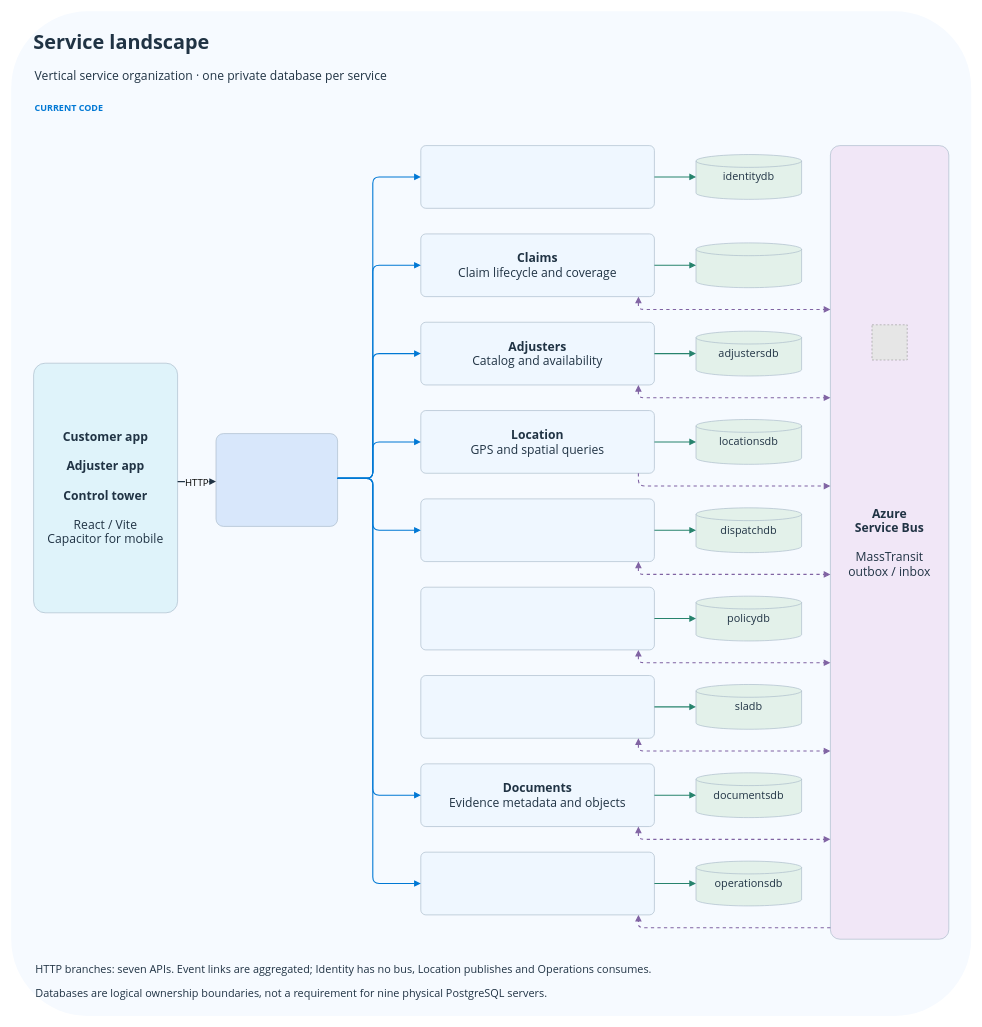
The diagram is 982 pixels wide and 1027 high, and some of its shapes have lost their labels. Grey dashed boxes stand in for pictures. The shapes that lost their labels are listed below. From the top down, each one's box as (x1, y1, x2, y2) in pixels, then its label:
(420, 145, 654, 208): Identity Identity and refresh tokens
(695, 242, 802, 288): claimsdb
(215, 433, 338, 526): YARP JWT · routing rate limits
(420, 498, 654, 562): Dispatch Assignment and reservations
(420, 587, 654, 650): Policy Provider validation
(420, 675, 654, 738): SLA Deadlines and escalation
(420, 852, 654, 915): Operations Tower read models and realtime
